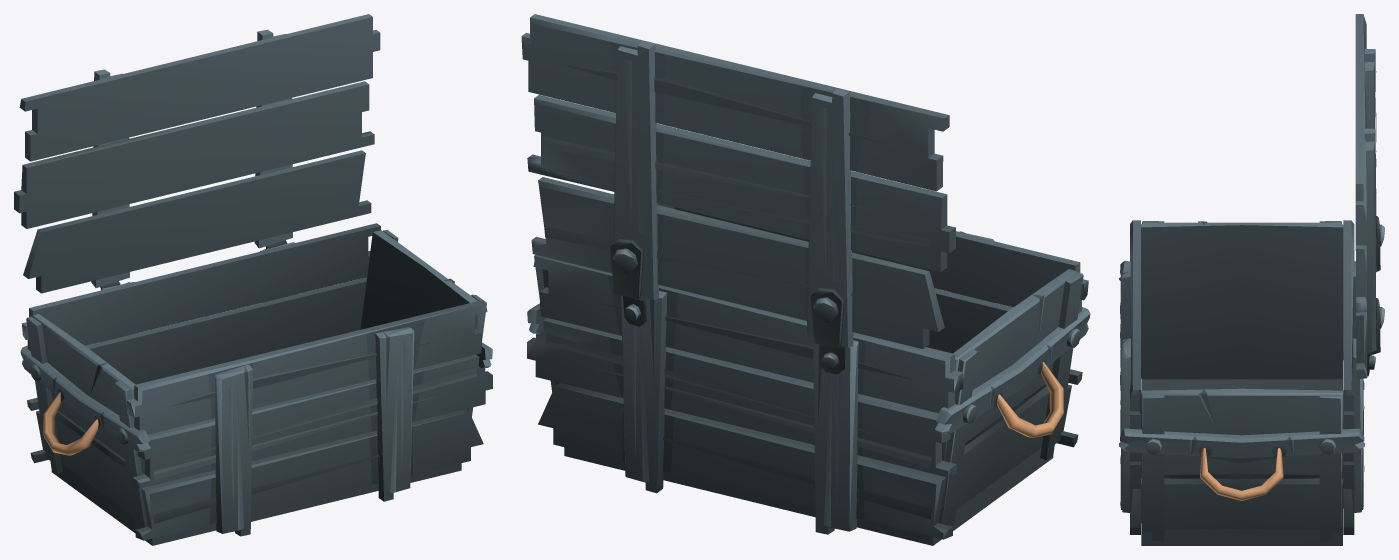
File: woodenboxvar.glb
3 renders of one model, left to right at view 1: azimuth 30°, elevation 25°; view 2: azimuth 150°, elevation 25°; view 3: azimuth 270°, elevation 25°, orthographic. The views are drawn at different scales.
Parts seen in each view (by area): view 1: woodenboxvar, Cube.023; view 2: woodenboxvar, Cube.023; view 3: woodenboxvar, Cube.023.
Boxes of the visible parts, bbox=[...] form: woodenboxvar: bbox=[20, 223, 492, 545]; Cube.023: bbox=[14, 14, 380, 293]; woodenboxvar: bbox=[527, 203, 1090, 545]; Cube.023: bbox=[521, 14, 955, 348]; woodenboxvar: bbox=[1119, 220, 1375, 545]; Cube.023: bbox=[1355, 14, 1384, 379].
Bounding box in the file's own units: 2.28 × 2 × 1.28.
Materials: 1 (1 with a texture image).
